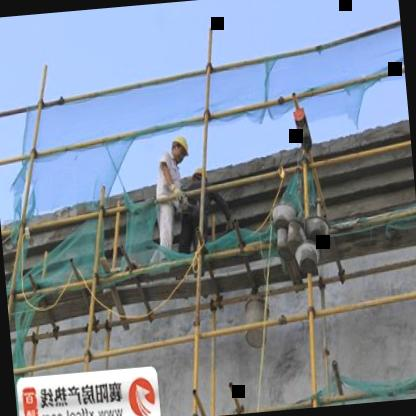helmet: (169, 132, 190, 162), (190, 160, 210, 188)
